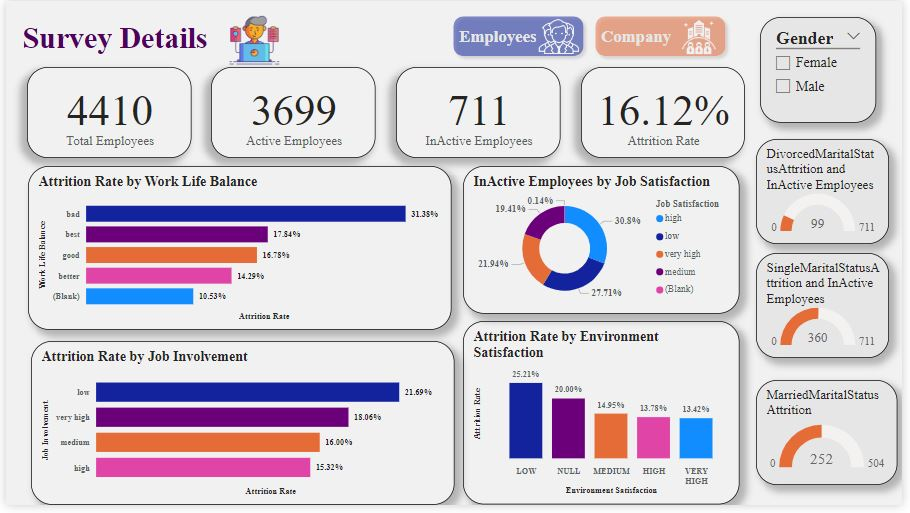

The page's visual inventory and layout, read from the dashboard file:
{"tool":"powerbi","page":{"name":"Survey","canvas":[1280,720],"ordinal":1},"visuals":[{"type":"textbox","box":[18.5,23.5,517.4,63.8],"z":0},{"type":"card","fields":{"Values":["MY_Measures.Attrition Rate"]},"box":[822,94.5,233.9,130.4],"z":1000},{"type":"card","fields":{"Values":["MY_Measures.Active Employees"]},"box":[293.4,94.5,235.3,130.4],"z":2000},{"type":"card","fields":{"Values":["MY_Measures.InActive Employees"]},"box":[557,94.5,235.3,130.4],"z":3000},{"type":"card","fields":{"Values":["MY_Measures.Total Employees"]},"box":[29.8,94.5,235.3,130.4],"z":4000},{"type":"slicer","fields":{"Values":["EMPLOYEES_Dim.GENDER"]},"box":[1076.7,23.5,166.3,151.2],"z":5000},{"type":"gauge","fields":{"Y":["MY_Measures.MarriedMaritalStatusAttrition"]},"box":[1071.9,540.9,201.6,149.5],"z":6000},{"type":"gauge","fields":{"Y":["MY_Measures.DivorcedMaritalStatusAttrition"],"MaxValue":["MY_Measures.InActive Employees"]},"box":[1071.9,196.5,189.8,149.5],"z":7000},{"type":"gauge","fields":{"MaxValue":["MY_Measures.InActive Employees"],"Y":["MY_Measures.SingleMaritalStatusAttrition"]},"box":[1071.9,359.5,189.8,149.5],"z":8000},{"type":"columnChart","fields":{"Y":["MY_Measures.Attrition Rate"],"Category":["Survey_Dim.Environment Satisfaction"]},"box":[653.4,457.8,395.4,262.2],"z":9000},{"type":"donutChart","fields":{"Category":["Survey_Dim.Job Satisfaction"],"Y":["MY_Measures.InActive Employees"]},"box":[653.4,235.3,395.4,211.2],"z":10000},{"type":"barChart","fields":{"Y":["MY_Measures.Attrition Rate"],"Category":["Survey_Dim.Job Involvement"]},"box":[35.4,486.1,605.2,233.9],"z":11000},{"type":"lineChart","fields":{"Y":["MY_Measures.Attrition Rate"],"Category":["Survey_Dim.Work Life Balance"]},"box":[29.8,235.3,592.4,239.5],"z":12000},{"type":"actionButton","box":[629.3,12.8,204.1,75.1],"z":13000},{"type":"image","box":[313.2,12.8,83.6,86.5],"z":14000},{"type":"image","box":[752.6,12.8,73.7,75.1],"z":15000},{"type":"actionButton","box":[833.4,12.8,204.1,75.1],"z":15001},{"type":"image","box":[959.5,21.3,60.9,59.5],"z":15002}]}

Visuals, with their boxes in screenshot pixels (x1, y1, x2, y2), scaled from the page's 1280x720 canvas onto the 910x513 screenshot:
textbox: 13,17,381,62
card - MY_Measures.Attrition Rate: 584,67,751,160
card - MY_Measures.Active Employees: 209,67,376,160
card - MY_Measures.InActive Employees: 396,67,563,160
card - MY_Measures.Total Employees: 21,67,188,160
slicer - EMPLOYEES_Dim.GENDER: 765,17,884,124
gauge - MY_Measures.MarriedMaritalStatusAttrition: 762,385,905,492
gauge - MY_Measures.DivorcedMaritalStatusAttrition x MY_Measures.InActive Employees: 762,140,897,247
gauge - MY_Measures.InActive Employees x MY_Measures.SingleMaritalStatusAttrition: 762,256,897,363
columnChart - MY_Measures.Attrition Rate x Survey_Dim.Environment Satisfaction: 465,326,746,512
donutChart - Survey_Dim.Job Satisfaction x MY_Measures.InActive Employees: 465,168,746,318
barChart - MY_Measures.Attrition Rate x Survey_Dim.Job Involvement: 25,346,455,512
lineChart - MY_Measures.Attrition Rate x Survey_Dim.Work Life Balance: 21,168,442,338
actionButton: 447,9,592,63
image: 223,9,282,71
image: 535,9,587,63
actionButton: 592,9,738,63
image: 682,15,725,58
